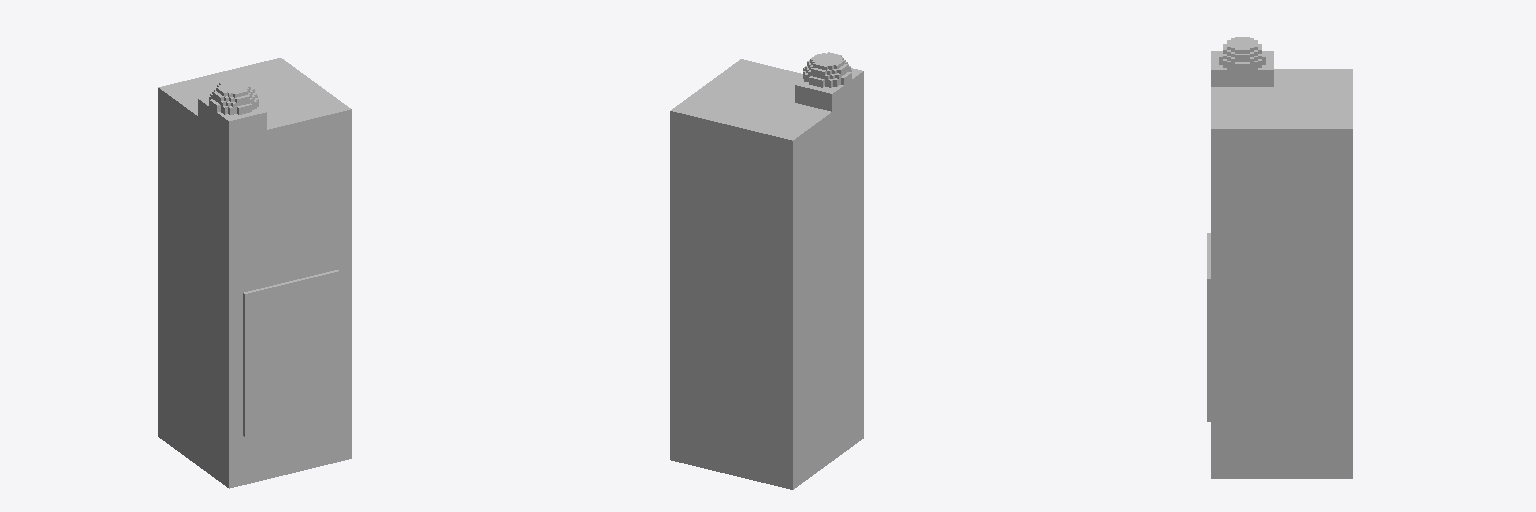
Rendered from Milk.obj.
3 views of the same model, side by side, from view 1: azimuth 30°, elevation 25°; view 2: azimuth 150°, elevation 25°; view 3: azimuth 270°, elevation 25° (orthographic).
Visible parts, largest first — view 1: object 1; view 2: object 1; view 3: object 1.
Part boxes in pixels (bbox=[...]): object 1: bbox=[158, 58, 351, 488]; object 1: bbox=[670, 52, 863, 489]; object 1: bbox=[1207, 37, 1352, 478].
Size of the model in its own units: 3.6 by 10.8 by 3.7.